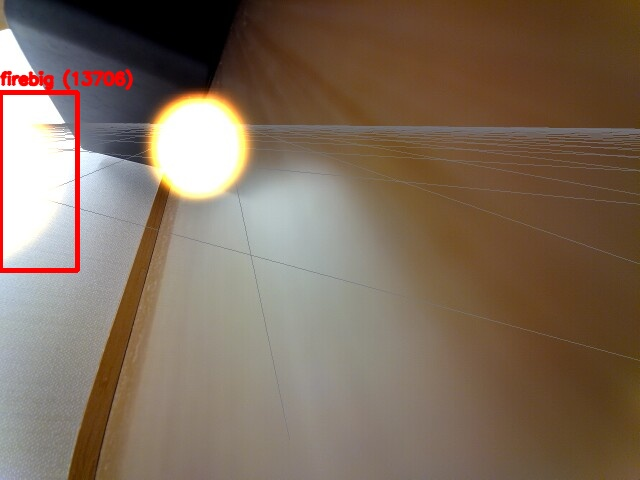firebig: (0, 92, 77, 270)
